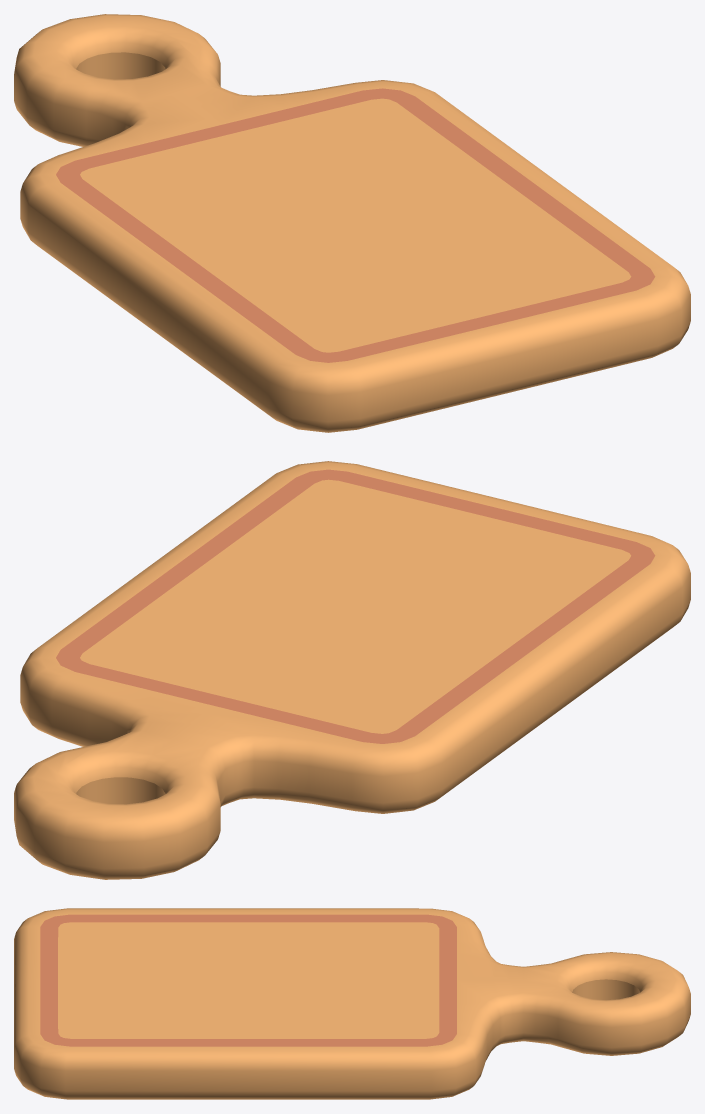
Rendered from tabua_corte_pacote.glb.
3 renders of one model, top to bottom at view 1: azimuth 30°, elevation 25°; view 2: azimuth 150°, elevation 25°; view 3: azimuth 270°, elevation 25°, orthographic. The views are drawn at different scales.
Parts seen in each view (by area): view 1: tabua_corte_pacote; view 2: tabua_corte_pacote; view 3: tabua_corte_pacote.
Boxes of the visible parts, left/top/right/bottom form: tabua_corte_pacote: left=14, top=14, right=690, bottom=432; tabua_corte_pacote: left=14, top=461, right=690, bottom=879; tabua_corte_pacote: left=14, top=908, right=690, bottom=1099.
Size of the model in its own units: 0.247 by 0.035 by 0.4589.
1 material, 1 textured.
